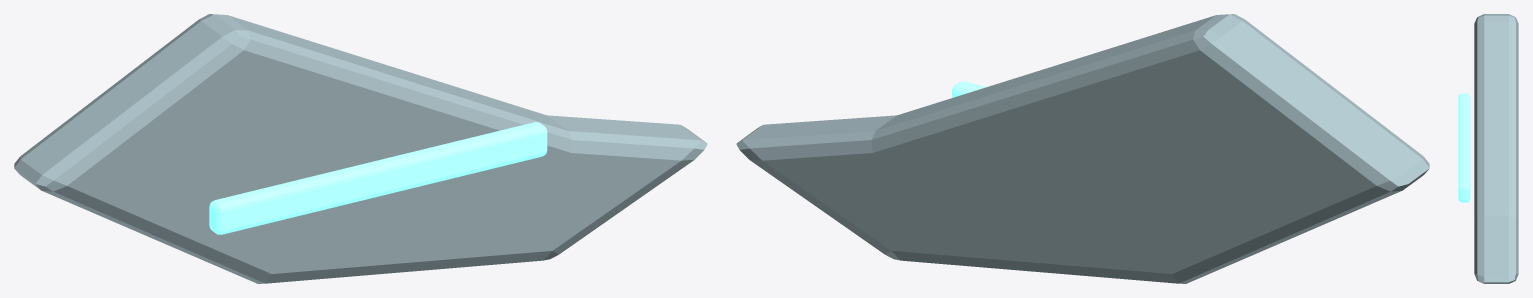
Rendered from SM_FlyerWing.fbx.
3 renders of one model, left to right at view 1: azimuth 30°, elevation 25°; view 2: azimuth 150°, elevation 25°; view 3: azimuth 270°, elevation 25°, orthographic. The views are drawn at different scales.
Parts seen in each view (by area): view 1: SM_FlyerWing; view 2: SM_FlyerWing; view 3: SM_FlyerWing.
Boxes of the visible parts, bbox=[...] form: SM_FlyerWing: bbox=[14, 14, 707, 283]; SM_FlyerWing: bbox=[736, 14, 1429, 283]; SM_FlyerWing: bbox=[1458, 14, 1518, 283].
Size of the model in its own units: 91 by 12.25 by 39.24.
